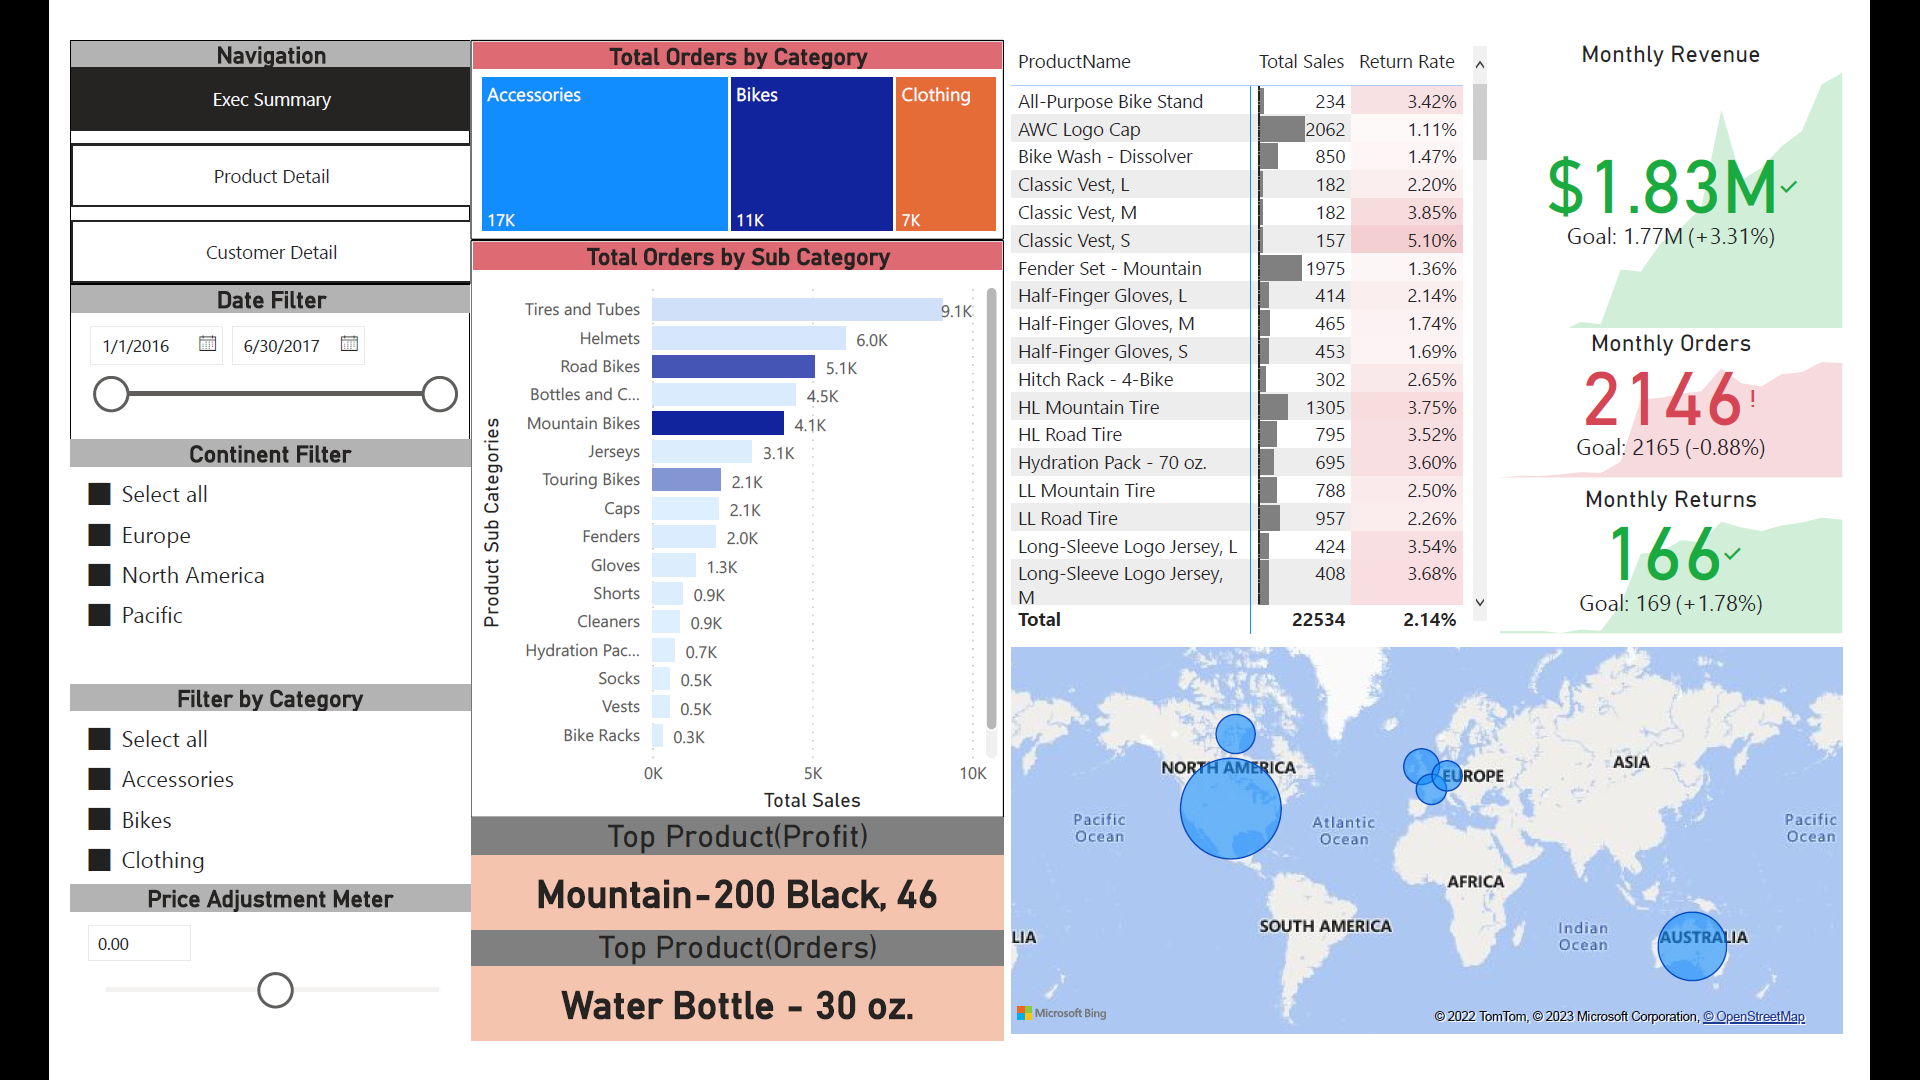

The page's visual inventory and layout, read from the dashboard file:
{"tool":"powerbi","page":{"name":"Exec Summary","canvas":[1280,720],"ordinal":0},"visuals":[{"type":"barChart","title":"Total Orders by Sub Category","fields":{"Y":["AW_Sales.Total Sales"],"Category":["AW_Product_Subcategories_Lookup.SubcategoryName"]},"box":[288,144,384,416],"z":1000},{"type":"treemap","title":"Total Orders by Category","fields":{"Group":["AW_Product_Categories_Lookup.CategoryName","AW_Product_Subcategories_Lookup.SubcategoryName"],"Values":["AW_Sales.Total Sales"]},"box":[288,0,384,144],"z":2000},{"type":"pivotTable","fields":{"Values":["AW_Sales.Total Sales","AW_Returns.Return Rate"],"Rows":["AW_Product_Categories_Lookup.CategoryName","AW_Product_Subcategories_Lookup.SubcategoryName","AW_Products_Lookup.ProductName"]},"box":[672,0,352,432],"z":3000},{"type":"kpi","title":"Monthly Revenue","fields":{"Indicator":["AW_Sales.Total Revenue"],"TrendLine":["AW_Calendar_Lookup.Start of Month"],"Goal":["AW_Sales.Prev Month Revenue"]},"box":[1024,0,256,224],"z":5000},{"type":"kpi","title":"Monthly Orders","fields":{"TrendLine":["AW_Calendar_Lookup.Start of Month"],"Indicator":["AW_Sales.Total Sales"],"Goal":["AW_Sales.Prev Month Orders"]},"box":[1024,208,256,112],"z":6000},{"type":"kpi","title":"Monthly Returns","fields":{"TrendLine":["AW_Calendar_Lookup.Start of Month"],"Indicator":["AW_Returns.Total Returns"],"Goal":["AW_Returns.Prev Month Returns"]},"box":[1024,320,256,112],"z":7000},{"type":"card","title":"Top Product(Orders)","fields":{"Values":["Min(AW_Products_Lookup.ProductName)"]},"box":[288,640,384,80],"z":8000},{"type":"card","title":"Top Product(Profit)","fields":{"Values":["Min(AW_Products_Lookup.ProductName)"]},"box":[288,560,384,80],"z":9000},{"type":"map","fields":{"Category":["AW_Territories_Lookup.Country"],"Size":["AW_Sales.Total Sales"]},"box":[672,432,608,288],"z":10000},{"type":"pageNavigator","title":"Navigation","box":[0,0,288,176],"z":10001},{"type":"slicer","title":"Date Filter","fields":{"Values":["AW_Calendar_Lookup.Date"]},"box":[0,176,288,112],"z":10002},{"type":"slicer","title":"Continent Filter","fields":{"Values":["AW_Territories_Lookup.Continent"]},"box":[0,288,288,176],"z":10003},{"type":"slicer","title":"Filter by Category","fields":{"Values":["AW_Product_Categories_Lookup.CategoryName"]},"box":[0,464,288,160],"z":10004},{"type":"slicer","title":"Price Adjustment Meter","fields":{"Values":["Price Adjustment(%).Price Adjustment(%)"]},"box":[0,608,288,112],"z":10005}]}

Visuals, with their boxes in screenshot pixels (x1, y1, x2, y2), scaled from the page's 1280x720 canvas onto the 1920x1080 screenshot:
"Total Orders by Sub Category" barChart: locate(432, 216, 1008, 840)
"Total Orders by Category" treemap: locate(432, 0, 1008, 216)
pivotTable - AW_Sales.Total Sales x AW_Returns.Return Rate: locate(1008, 0, 1536, 648)
"Monthly Revenue" kpi: locate(1536, 0, 1919, 336)
"Monthly Orders" kpi: locate(1536, 312, 1919, 480)
"Monthly Returns" kpi: locate(1536, 480, 1919, 648)
"Top Product(Orders)" card: locate(432, 960, 1008, 1079)
"Top Product(Profit)" card: locate(432, 840, 1008, 960)
map - AW_Territories_Lookup.Country x AW_Sales.Total Sales: locate(1008, 648, 1919, 1079)
"Navigation" pageNavigator: locate(0, 0, 432, 264)
"Date Filter" slicer: locate(0, 264, 432, 432)
"Continent Filter" slicer: locate(0, 432, 432, 696)
"Filter by Category" slicer: locate(0, 696, 432, 936)
"Price Adjustment Meter" slicer: locate(0, 912, 432, 1079)
